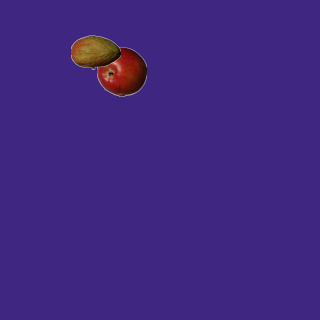Apple Braeburn: (96, 46, 146, 96)
Papaya: (70, 27, 120, 77)
